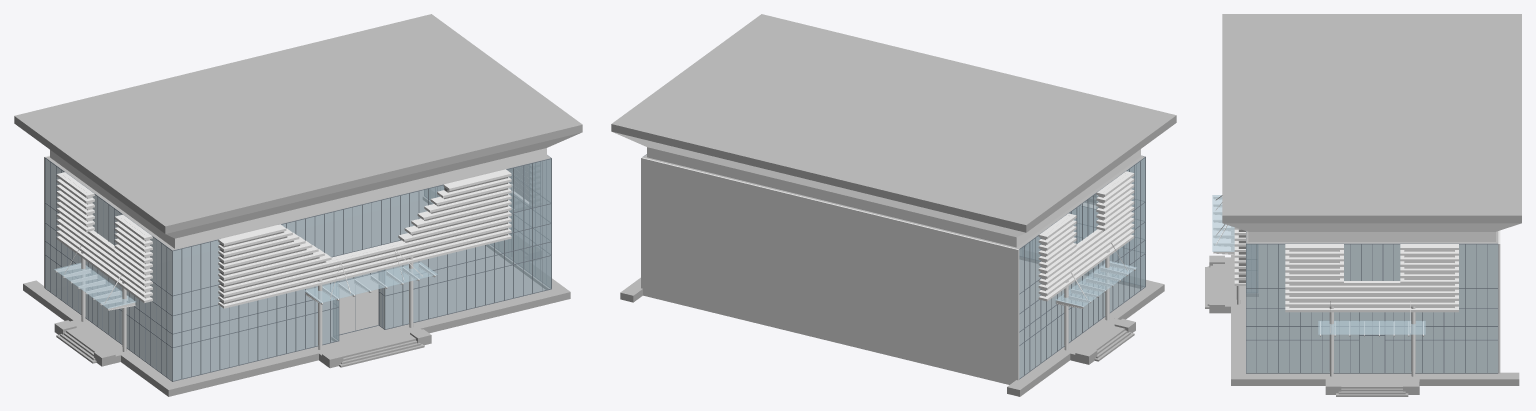
3 renders of one model, left to right at view 1: azimuth 30°, elevation 25°; view 2: azimuth 150°, elevation 25°; view 3: azimuth 270°, elevation 25°, orthographic.
Visible parts, largest first — view 1: Obj3d66-1371392-3680-117; view 2: Obj3d66-1371392-3680-117; view 3: Obj3d66-1371392-3680-117.
Boxes of the visible parts, left/top/right/bottom form: Obj3d66-1371392-3680-117: left=14, top=14, right=582, bottom=396; Obj3d66-1371392-3680-117: left=611, top=14, right=1176, bottom=396; Obj3d66-1371392-3680-117: left=1205, top=14, right=1521, bottom=396.
Size of the model in its own units: 539 by 202 by 334.
